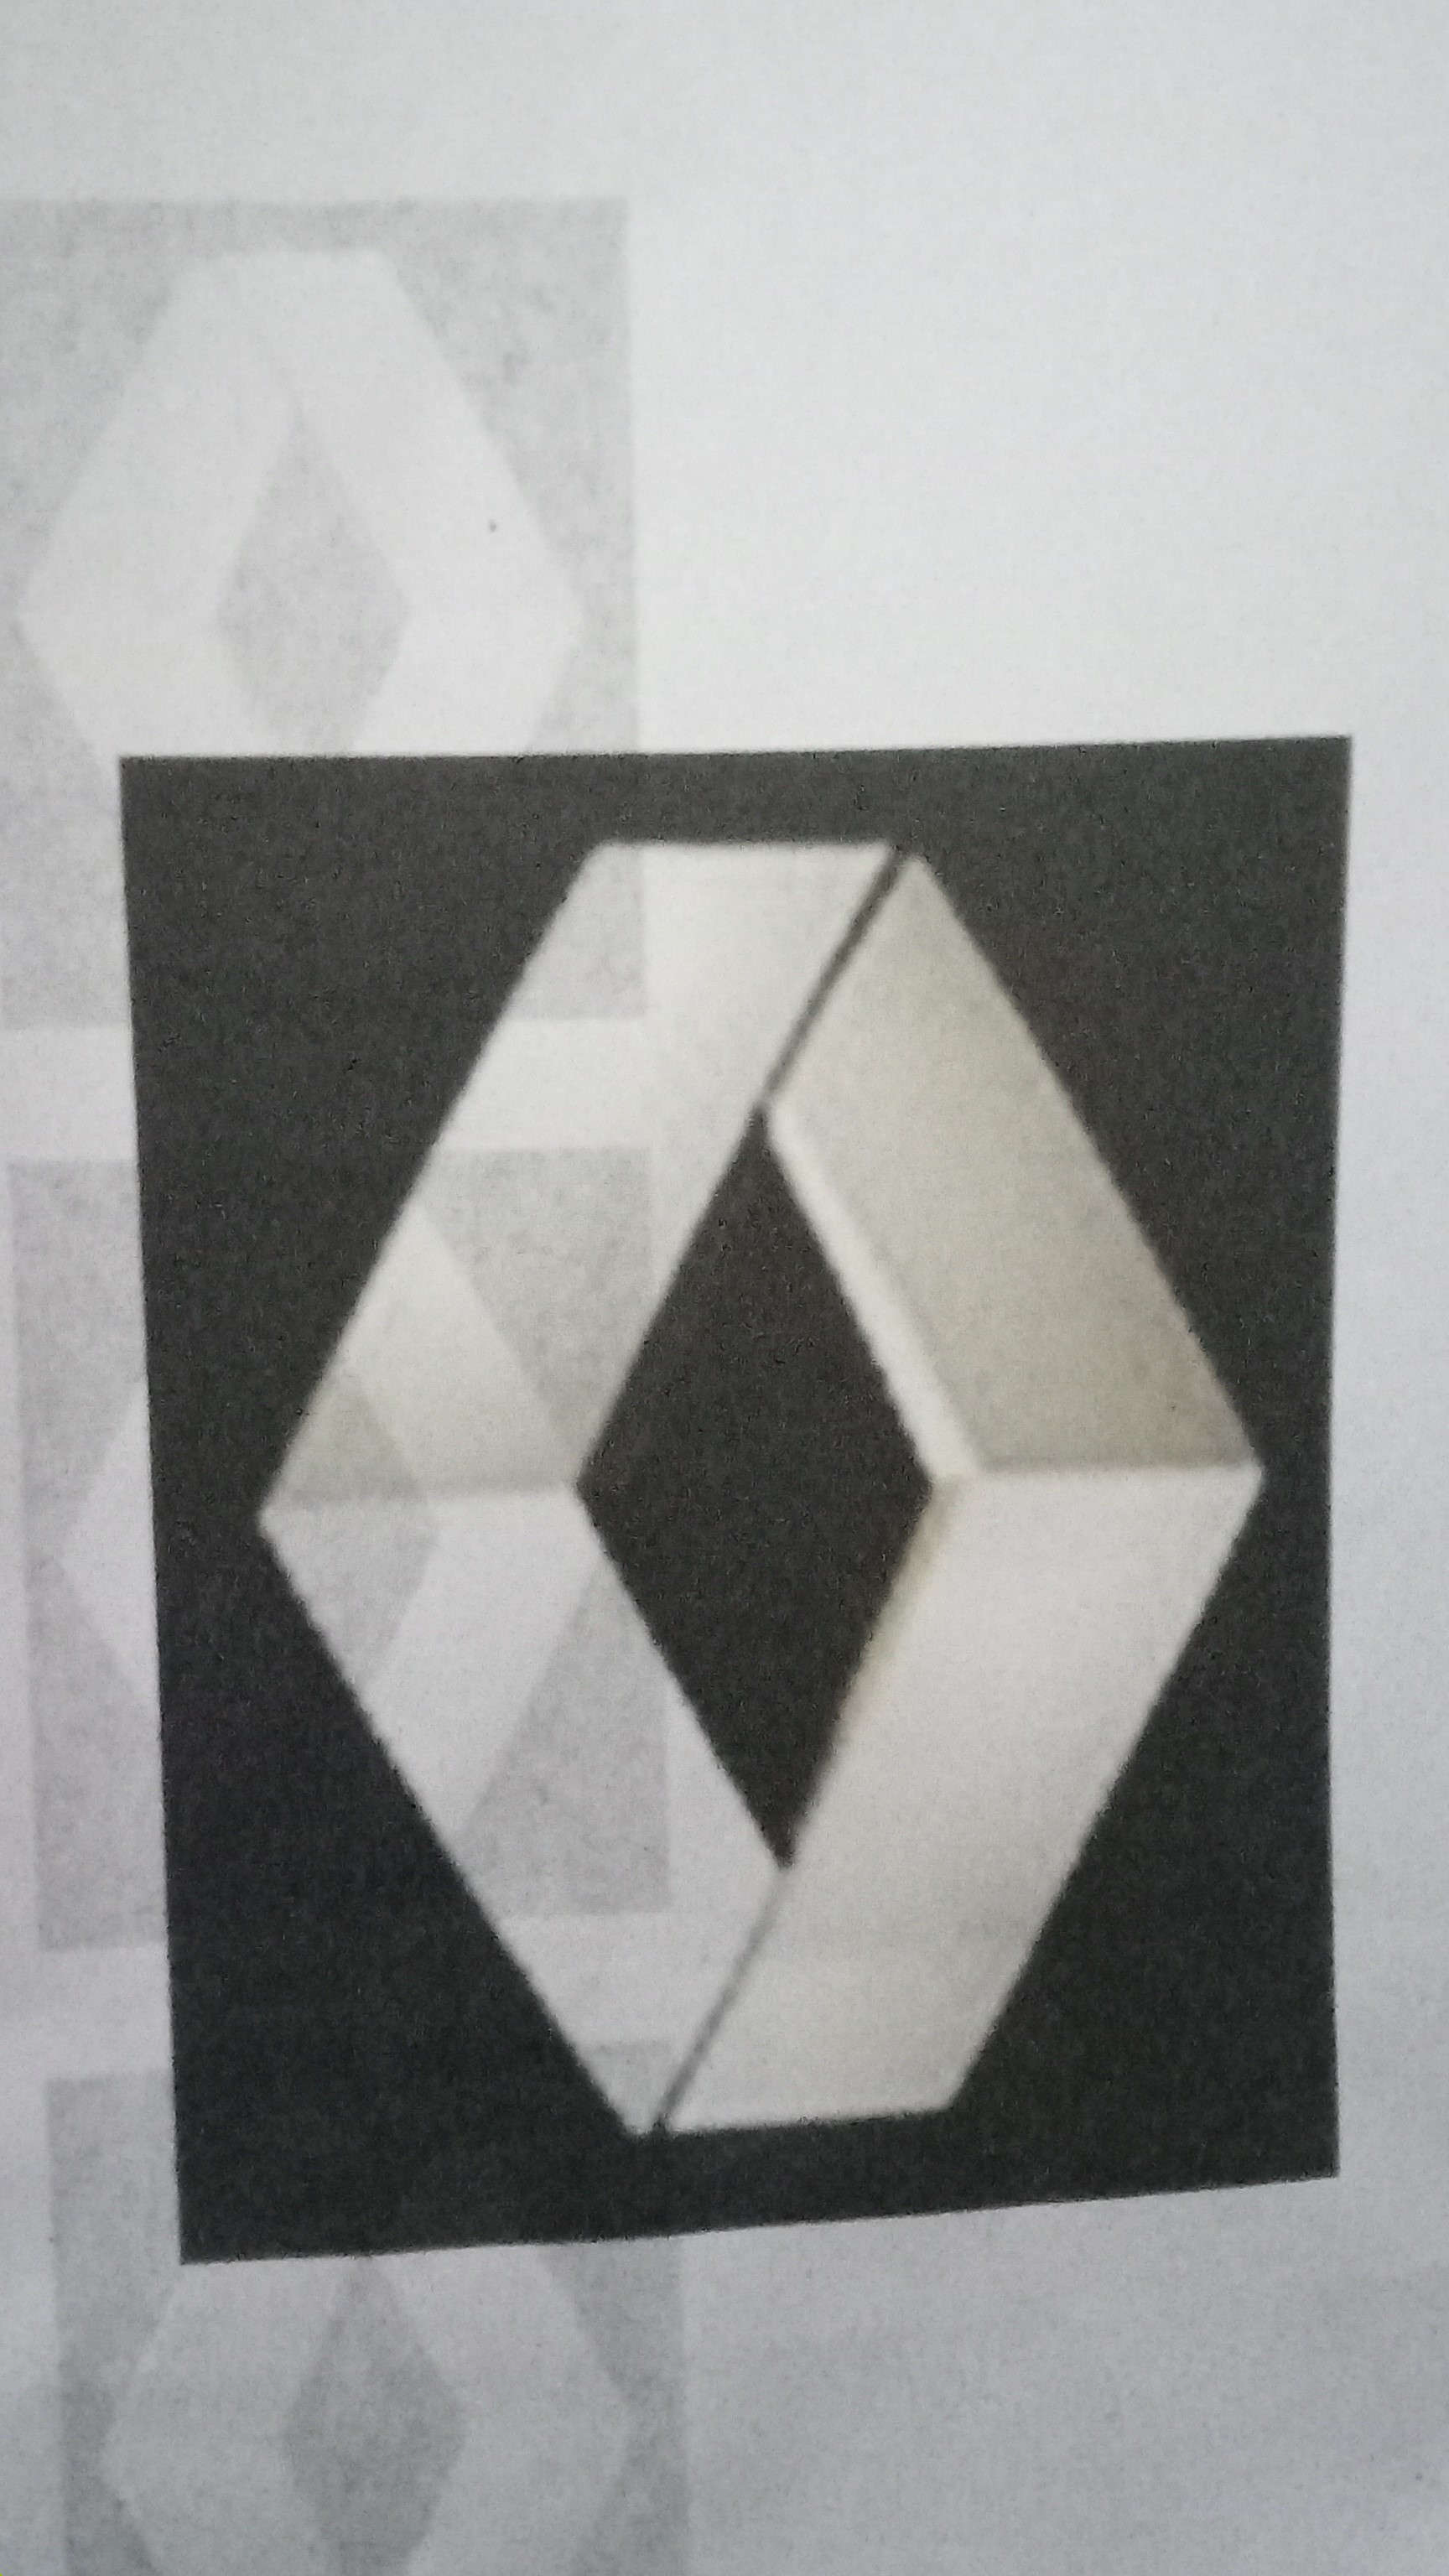Renault: (172, 789, 1300, 2194)
